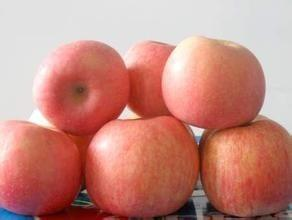apple: (83, 113, 199, 217), (158, 35, 265, 128), (195, 118, 292, 217), (32, 39, 129, 137), (1, 120, 82, 215)
